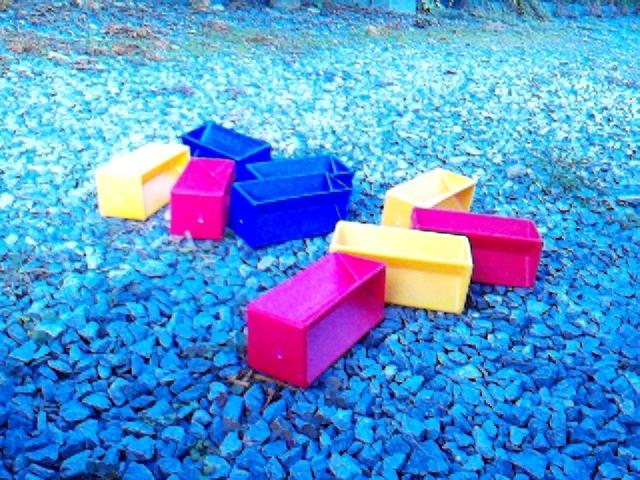blue: (228, 170, 354, 252), (181, 120, 272, 181), (244, 154, 355, 188)
red: (245, 251, 387, 389), (410, 206, 544, 289), (170, 157, 236, 241)
yellow: (329, 219, 474, 315), (95, 141, 191, 222), (381, 167, 476, 229)
